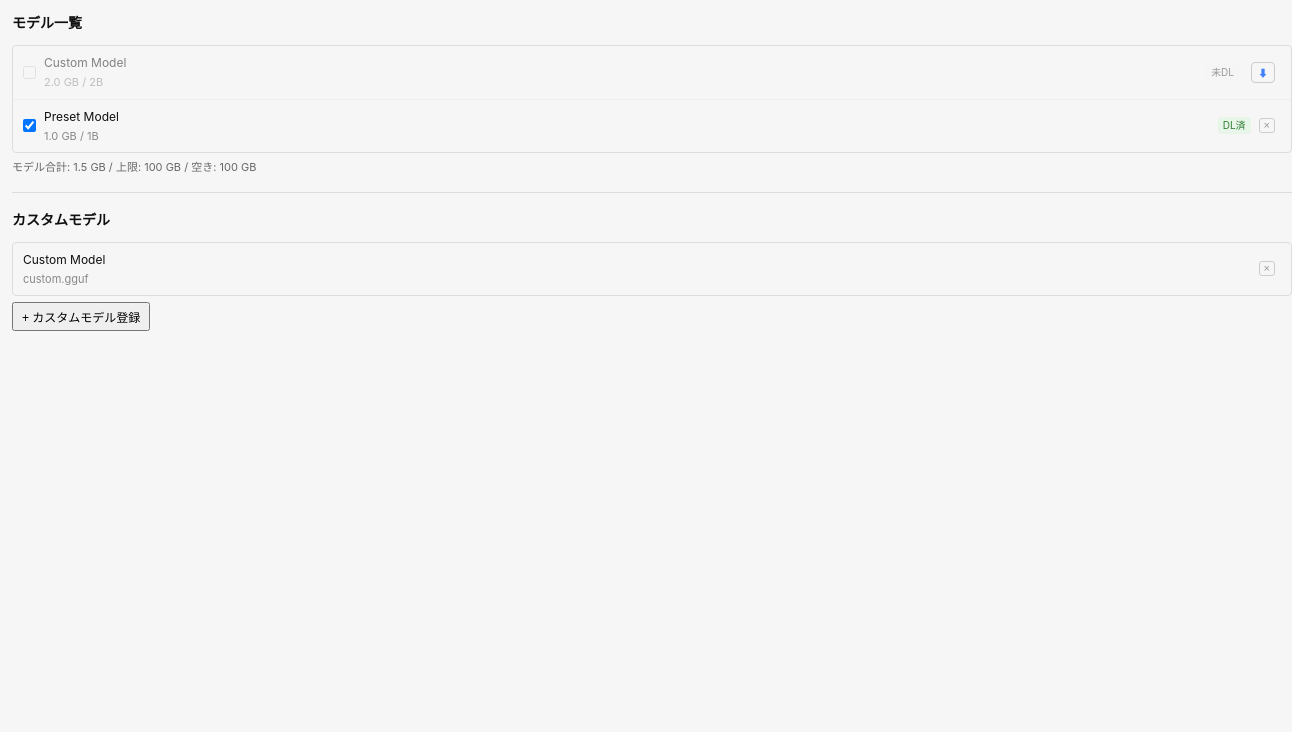
Test case: ModelManagementSection › カスタムモデル登録フォームのトグル
The width and height of the screenshot is (1292, 732).
Check: the field with placeholder "モデル名" is not shown
Click the button "+ カスタムモデル登録": (81, 316) [12,302,150,331]
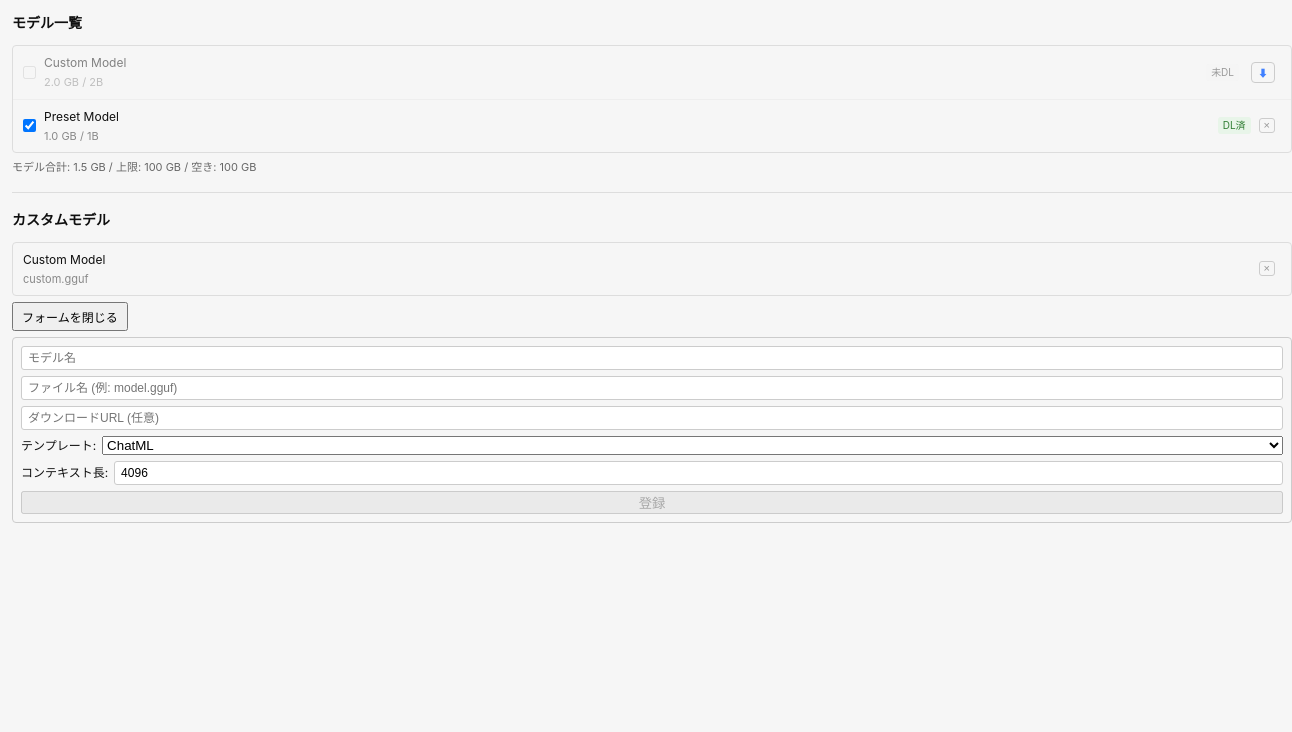
Check: the field with placeholder "モデル名" is shown, box [21,346,1283,370]
Click the button "フォームを閉じる": (70, 316) [12,302,128,331]
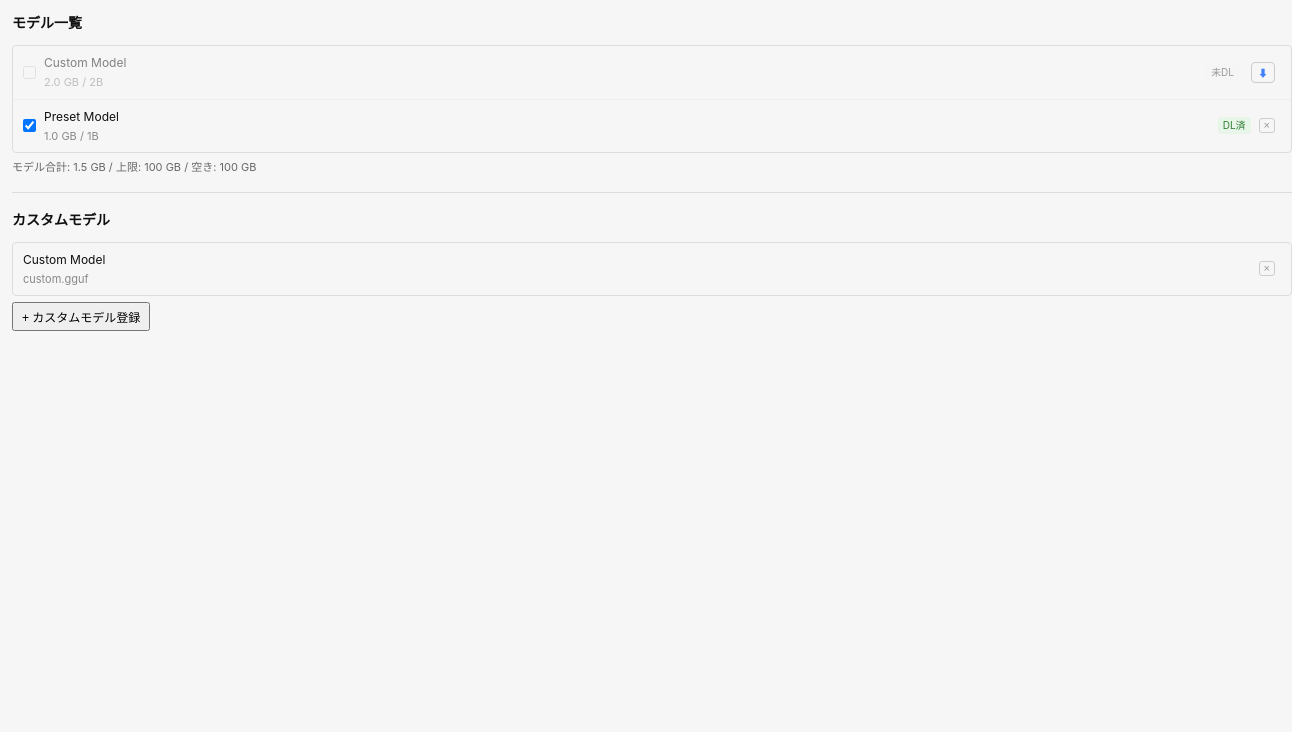
Check: the field with placeholder "モデル名" is gone
